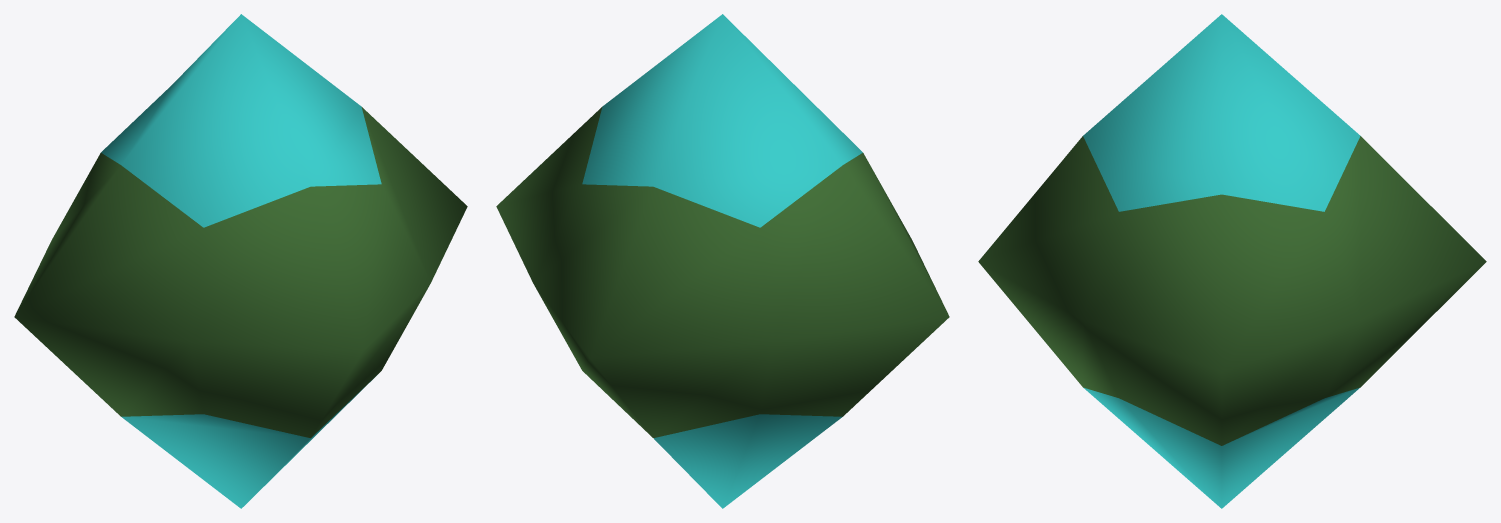
Rendered from Normal.fbx.
3 renders of one model, left to right at view 1: azimuth 30°, elevation 25°; view 2: azimuth 150°, elevation 25°; view 3: azimuth 270°, elevation 25°, orthographic.
Visible parts, largest first — view 1: pCube1; view 2: pCube1; view 3: pCube1.
Part boxes in pixels (x1,y1,x2,y2): pCube1: (14,14,467,508); pCube1: (496,14,949,508); pCube1: (978,14,1486,508).
Bounding box in the file's own units: 1.41 × 1.48 × 1.37.
